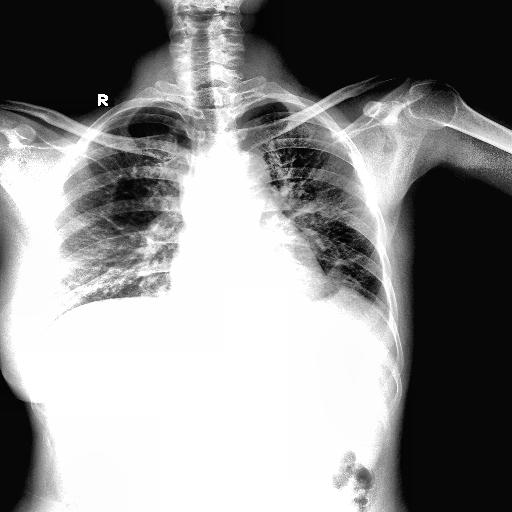0- Aortic enlargement: (213, 150, 271, 202)
13- Pulmonary fibrosis: (64, 228, 146, 298), (280, 182, 369, 239), (328, 258, 364, 292), (317, 252, 370, 274), (100, 215, 124, 230)
6- Infiltration: (64, 228, 146, 298), (72, 229, 136, 297), (303, 150, 357, 214), (328, 258, 364, 292)
7- Lung Opacity: (308, 284, 376, 312)
9- Other lesion: (308, 284, 376, 312)
